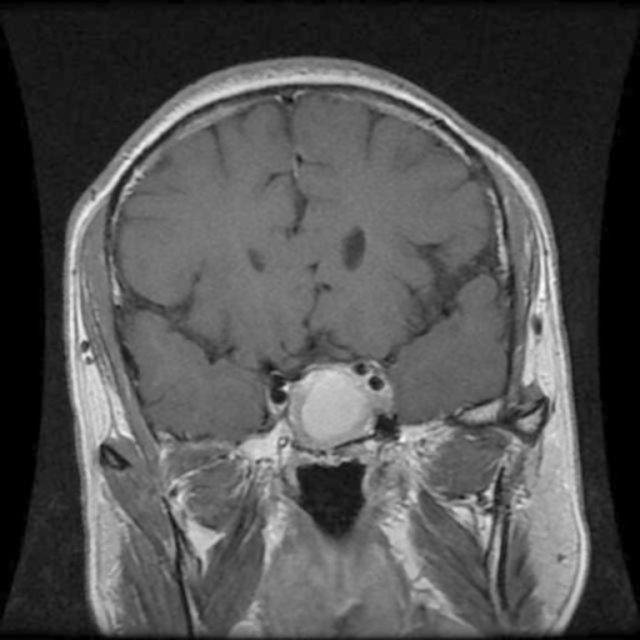no tumor: (296, 358, 380, 448)
